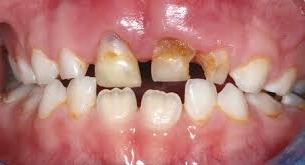Caries: (145, 38, 220, 77), (98, 29, 133, 68)
